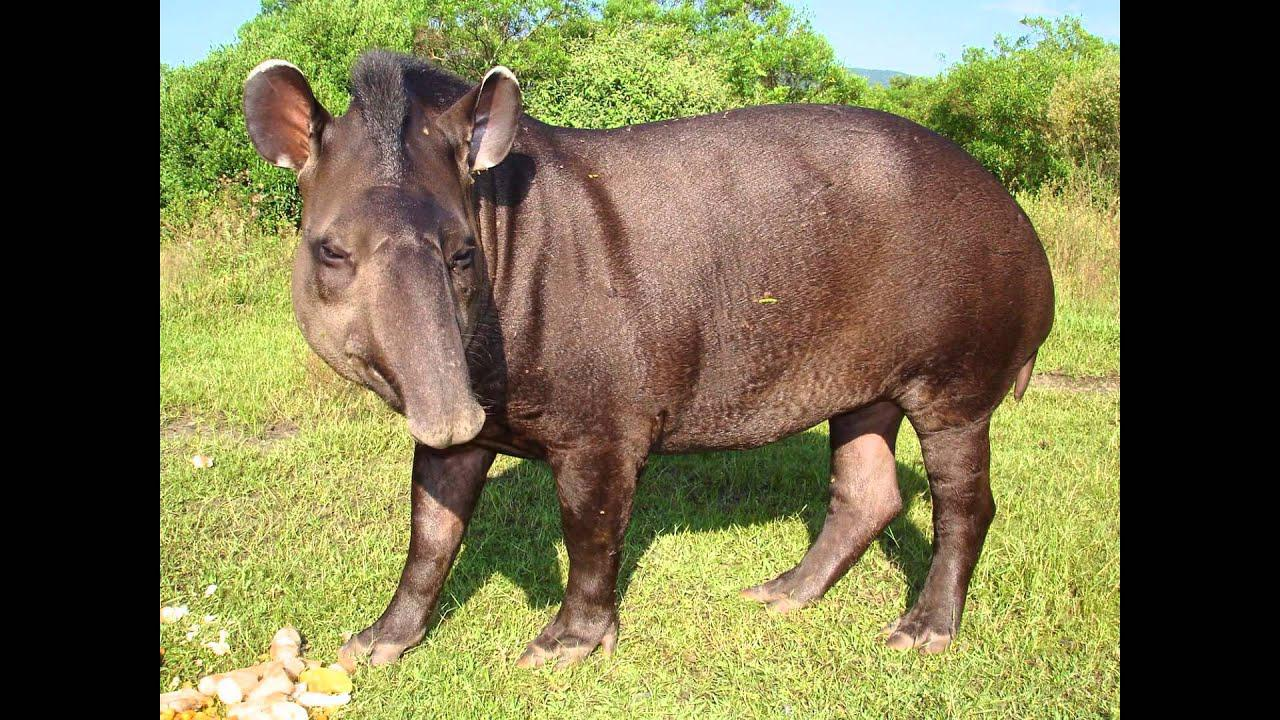Anta: (220, 25, 1065, 664)
